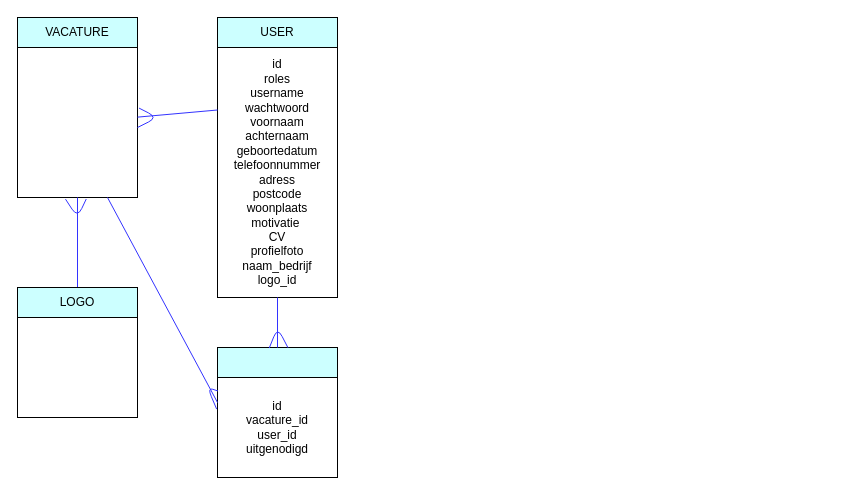
Some shapes in this 843 by 495 pixel diagram are drawn without their labels. Each missing label, with the centre of its shape:
"id logo" belongs at pixel 77 367.
"id user_id logo_id titel datum niveau plaats omschrijving" belongs at pixel 77 122.
"SOLLICITATIE" belongs at pixel 277 362.
